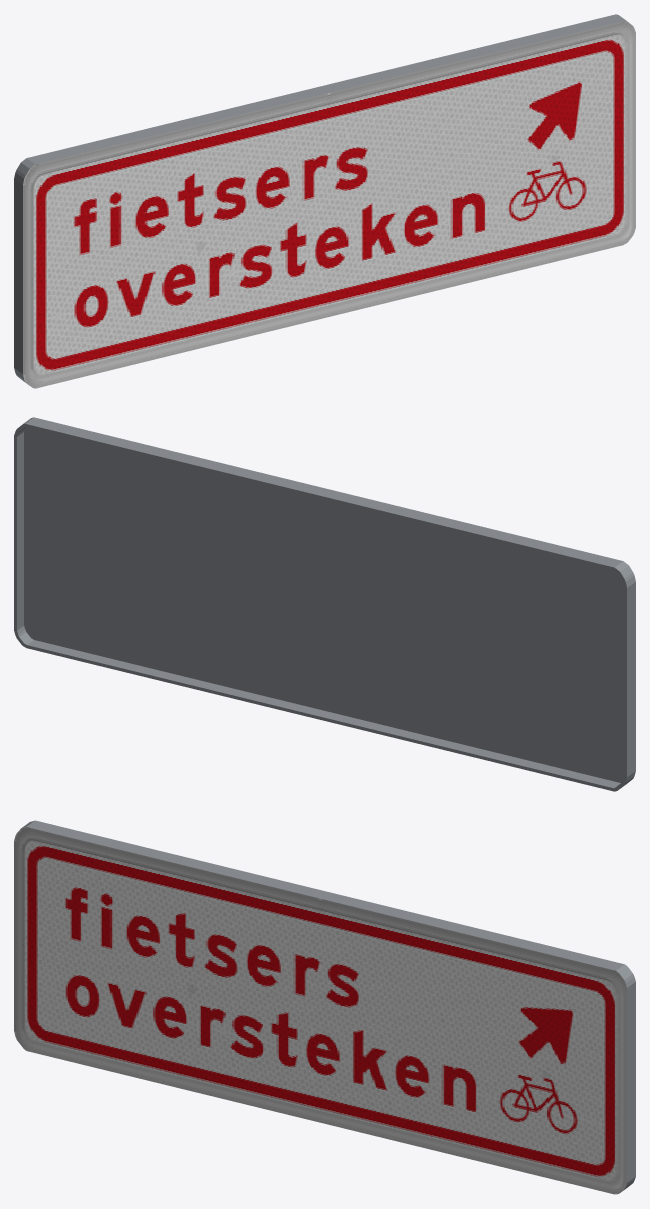
3 views of the same model, one above another, from view 1: azimuth 30°, elevation 25°; view 2: azimuth 150°, elevation 25°; view 3: azimuth 330°, elevation 25° (orthographic).
Parts seen in each view (by area): view 1: cat_b3f5349a69982946; view 2: cat_b3f5349a69982946; view 3: cat_b3f5349a69982946.
Part boxes in pixels (x1,y1,x2,y2): cat_b3f5349a69982946: (14, 14, 635, 388); cat_b3f5349a69982946: (14, 417, 635, 791); cat_b3f5349a69982946: (14, 820, 635, 1194).
Bounding box in the file's own units: 0.6 × 0.015 × 0.2095.
Materials: 2 (1 with a texture image).
